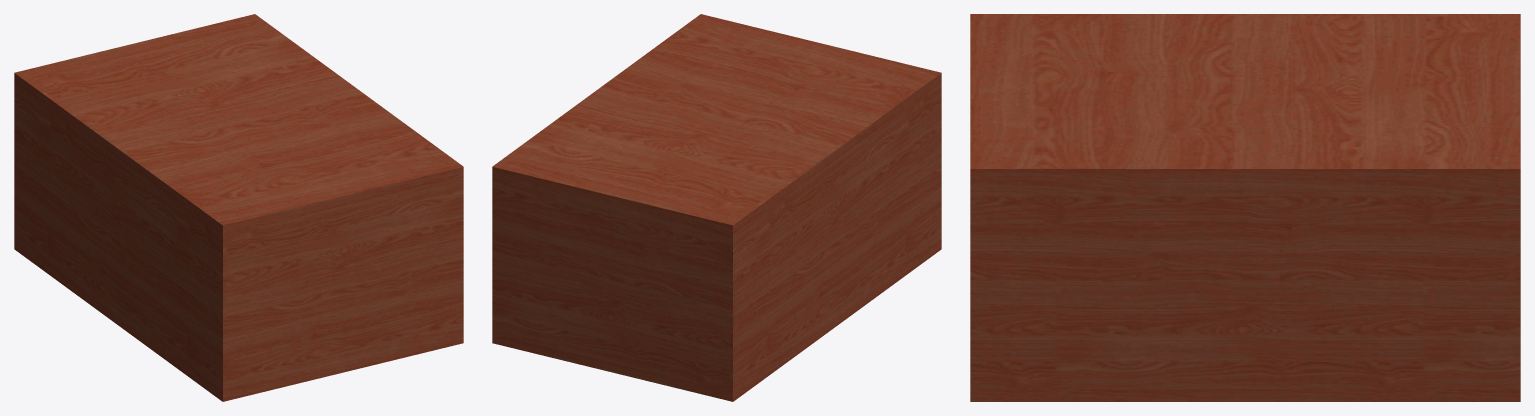
3 renders of one model, left to right at view 1: azimuth 30°, elevation 25°; view 2: azimuth 150°, elevation 25°; view 3: azimuth 270°, elevation 25°, orthographic. The views are drawn at different scales.
Parts seen in each view (by area): view 1: Red_wood; view 2: Red_wood; view 3: Red_wood.
Boxes of the visible parts, x1,y1,x2,y2 form: Red_wood: (14, 14, 463, 401); Red_wood: (492, 14, 941, 401); Red_wood: (970, 14, 1520, 401).
Bounding box in the file's own units: 0.5 × 0.35 × 0.75.
Materials: 1 (1 with a texture image).
